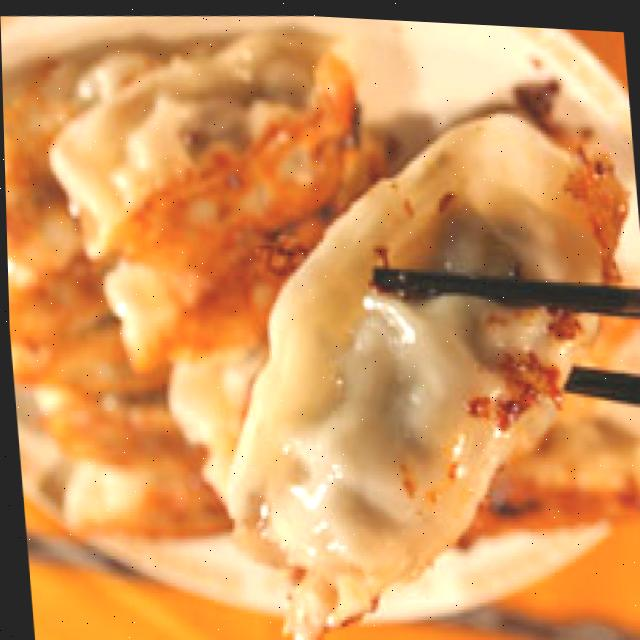带馅早点: (0, 20, 640, 611)
